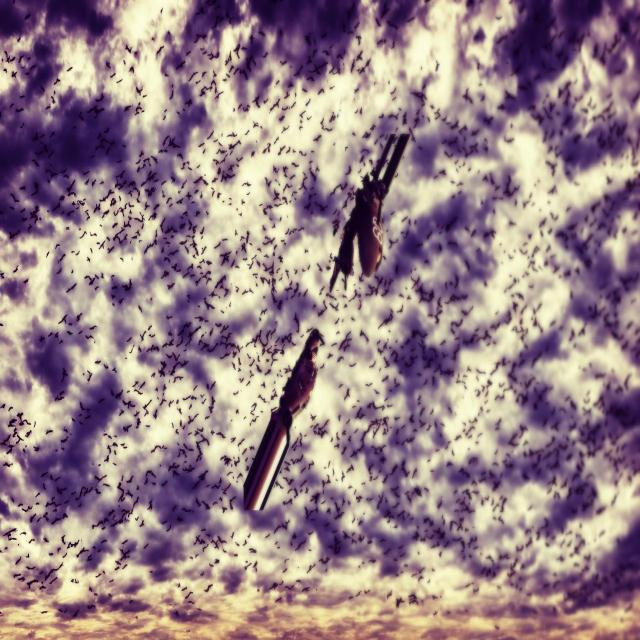airplane: (242, 326, 325, 511), (328, 130, 411, 293)
